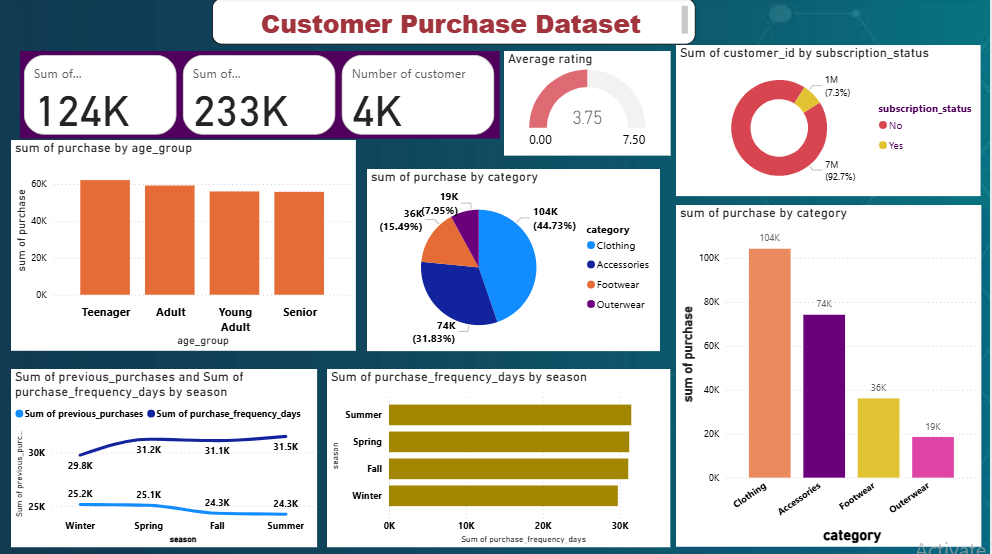

Layout of this report page (visuals, bound fields, positions):
{"tool":"powerbi","page":{"name":"Page 1","canvas":[1280,720],"ordinal":0},"visuals":[{"type":"textbox","box":[276.4,0,623.6,59.5],"z":0},{"type":"donutChart","fields":{"Y":["Sum(sorted_customer_data.customer_id)"],"Category":["sorted_customer_data.subscription_status"]},"box":[875,60,393.3,195],"z":1000},{"type":"pieChart","fields":{"Category":["sorted_customer_data.category"],"Y":["sorted_customer_data.sum of purchase"]},"box":[476.7,220,378.3,235],"z":2000},{"type":"clusteredColumnChart","fields":{"Y":["sorted_customer_data.sum of purchase"],"Category":["sorted_customer_data.category"]},"box":[874.5,266.5,394,440.8],"z":3000},{"type":"clusteredBarChart","fields":{"Y":["Sum(sorted_customer_data.purchase_frequency_days)"],"Category":["sorted_customer_data.season"]},"box":[425,478.3,443.3,230],"z":4000},{"type":"lineChart","fields":{"Y":["Sum(sorted_customer_data.previous_purchases)","Sum(sorted_customer_data.purchase_frequency_days)"],"Category":["sorted_customer_data.season"]},"box":[16.7,478.3,395,230],"z":5000},{"type":"gauge","fields":{"Y":["sorted_customer_data.Average rating"]},"box":[653.3,68.3,215,135],"z":6000},{"type":"clusteredColumnChart","fields":{"Category":["sorted_customer_data.age_group"],"Y":["sorted_customer_data.sum of purchase"]},"box":[16.7,183.3,445,271.7],"z":7000},{"type":"cardVisual","fields":{"Data":["Sum(sorted_customer_data.purchase_frequency_days)","Sum(sorted_customer_data.purchase_amount_(usd))","sorted_customer_data.Number of customer"]},"box":[28.3,68,619.4,113.4],"z":8000}]}

Visuals, with their boxes in screenshot pixels (x1, y1, x2, y2), scaled from the page's 1280x720 canvas onto the 992x554 screenshot:
textbox: 214 0 698 46
donutChart - Sum(sorted_customer_data.customer_id) x sorted_customer_data.subscription_status: 678 46 983 196
pieChart - sorted_customer_data.category x sorted_customer_data.sum of purchase: 369 169 663 350
clusteredColumnChart - sorted_customer_data.sum of purchase x sorted_customer_data.category: 678 205 983 544
clusteredBarChart - Sum(sorted_customer_data.purchase_frequency_days) x sorted_customer_data.season: 329 368 673 545
lineChart - Sum(sorted_customer_data.previous_purchases) x Sum(sorted_customer_data.purchase_frequency_days): 13 368 319 545
gauge - sorted_customer_data.Average rating: 506 53 673 156
clusteredColumnChart - sorted_customer_data.age_group x sorted_customer_data.sum of purchase: 13 141 358 350
cardVisual - Sum(sorted_customer_data.purchase_frequency_days) x Sum(sorted_customer_data.purchase_amount_(usd)): 22 52 502 140
